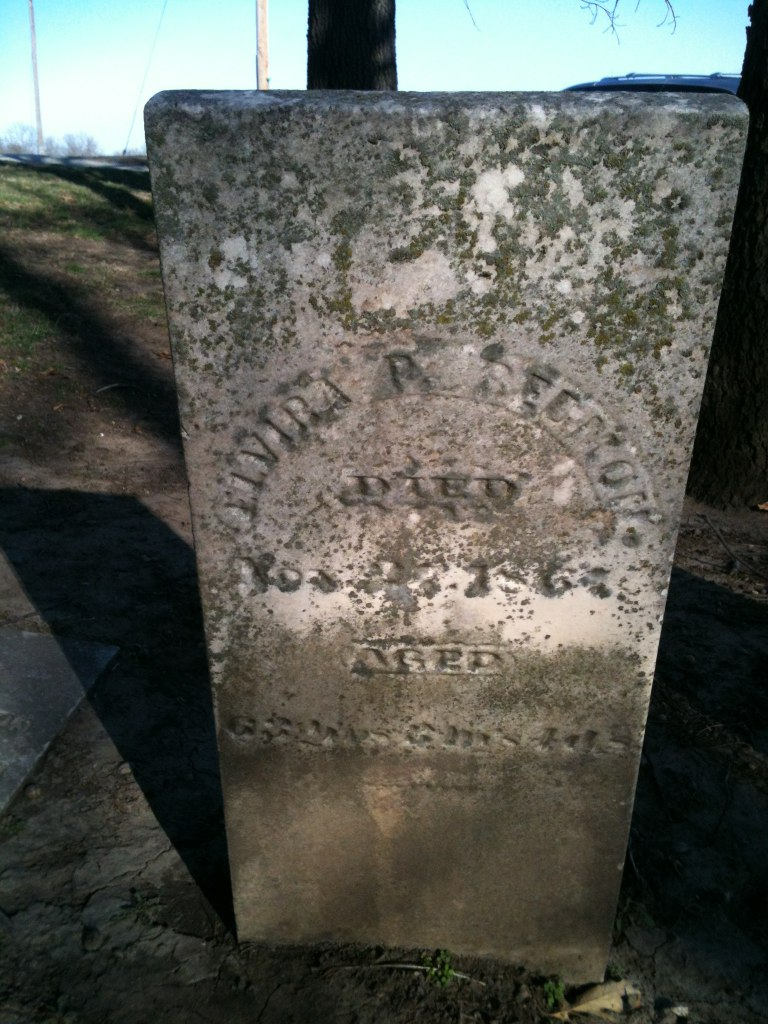upright: (139, 79, 753, 965)
